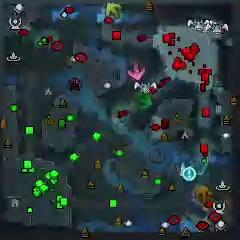Other: (184, 167, 196, 181)
x1: (128, 61, 145, 82)
x2: (105, 2, 122, 18)
x3: (180, 163, 196, 177)
x4: (136, 93, 154, 111)
x5: (196, 185, 212, 203)
